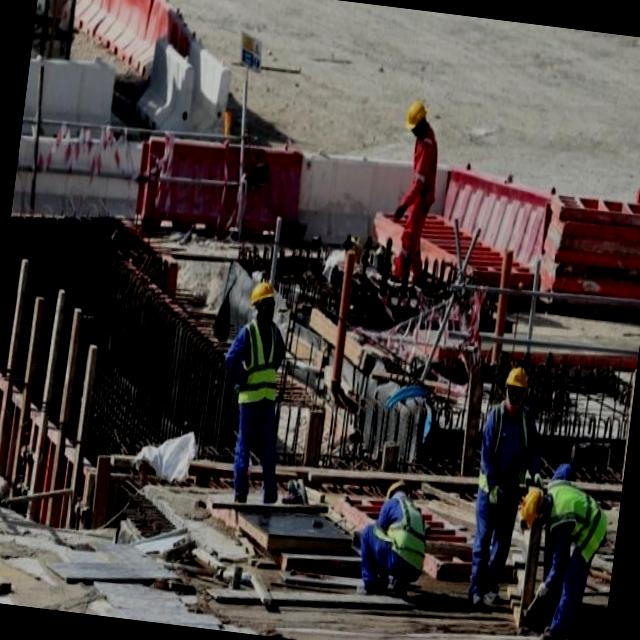helmet: (502, 361, 533, 400)
vest: (544, 484, 612, 559), (238, 320, 290, 406)
